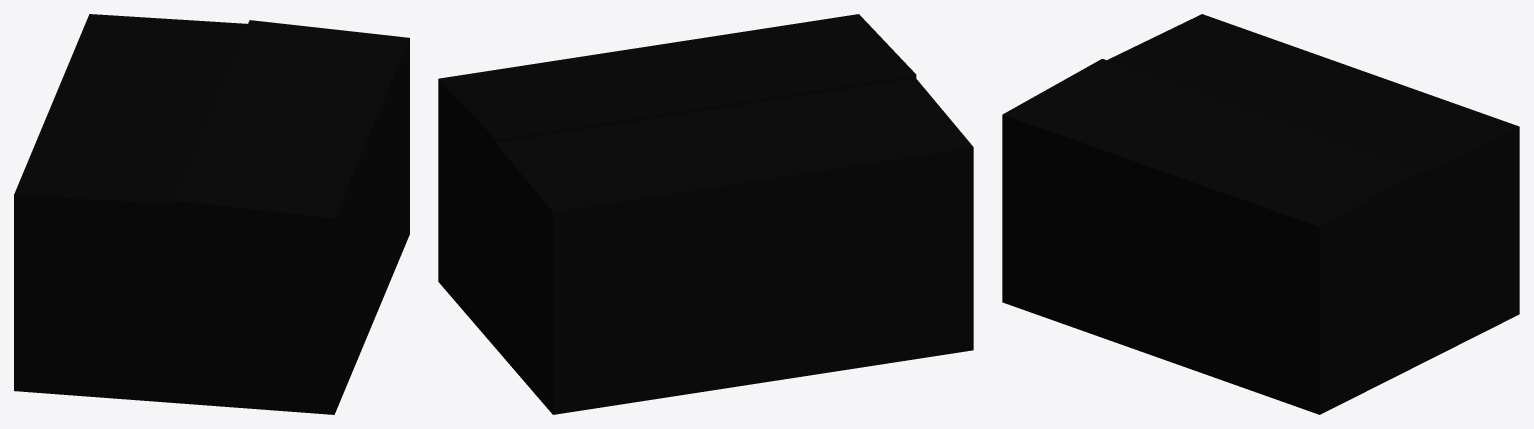
The picture shows the model from 3 angles, left to right: view 1: azimuth 30°, elevation 25°; view 2: azimuth 150°, elevation 25°; view 3: azimuth 270°, elevation 25°; orthographic projection. The views are drawn at different scales.
Parts seen in each view (by area): view 1: Joint_0_Object_0; view 2: Joint_0_Object_0; view 3: Joint_0_Object_0.
Boxes of the visible parts, <box> form: Joint_0_Object_0: <box>14,14,409,414</box>; Joint_0_Object_0: <box>438,14,973,414</box>; Joint_0_Object_0: <box>1002,14,1519,414</box>.
Size of the model in its own units: 1217 by 515 by 1248.
Materials: 1 (1 with a texture image).
